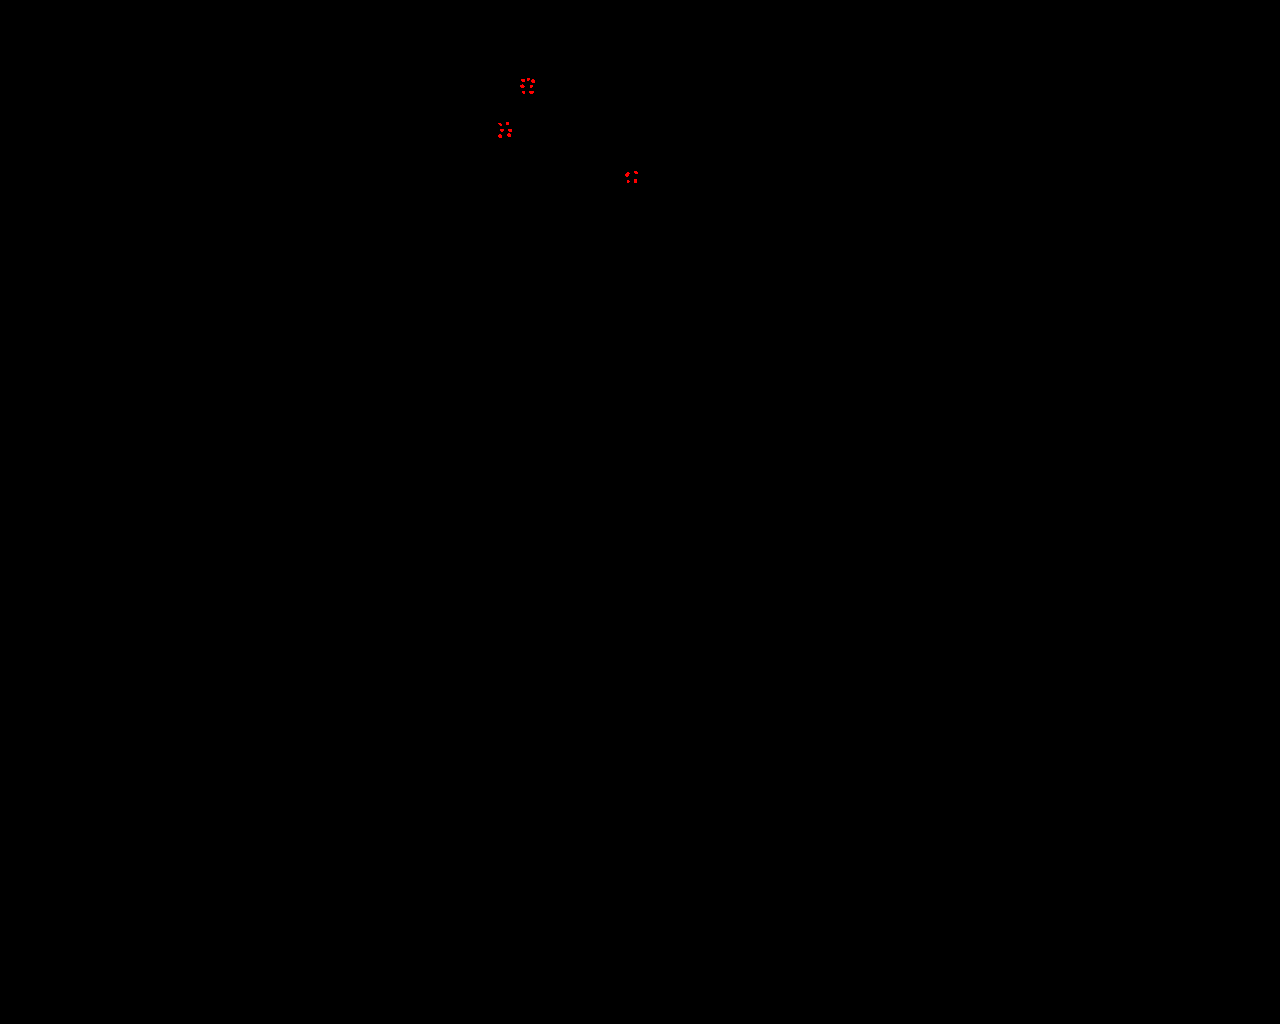Target: (625, 172, 630, 177), (520, 84, 525, 88), (507, 133, 511, 137), (529, 91, 534, 94), (531, 79, 535, 83), (508, 129, 512, 132), (498, 134, 502, 138), (634, 171, 638, 174), (634, 179, 637, 183), (527, 78, 530, 82), (530, 85, 533, 88), (506, 122, 509, 125), (498, 123, 502, 126), (501, 129, 504, 132), (627, 180, 630, 183), (521, 79, 525, 82), (522, 91, 525, 94)
